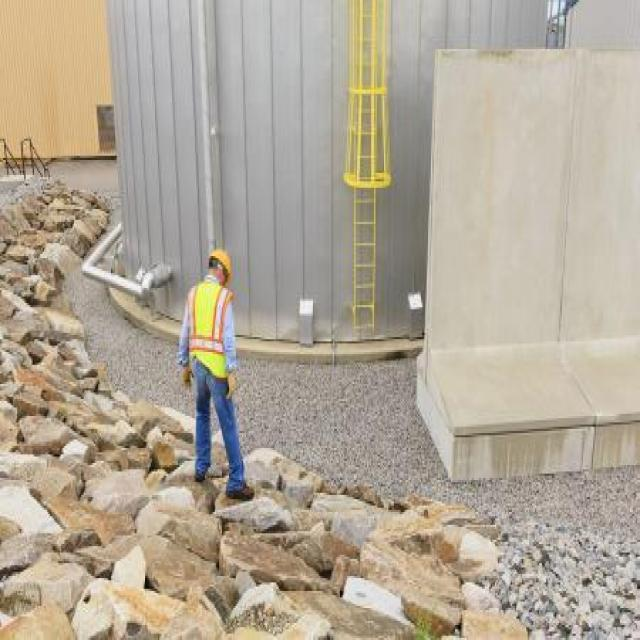hat: (205, 246, 233, 297)
